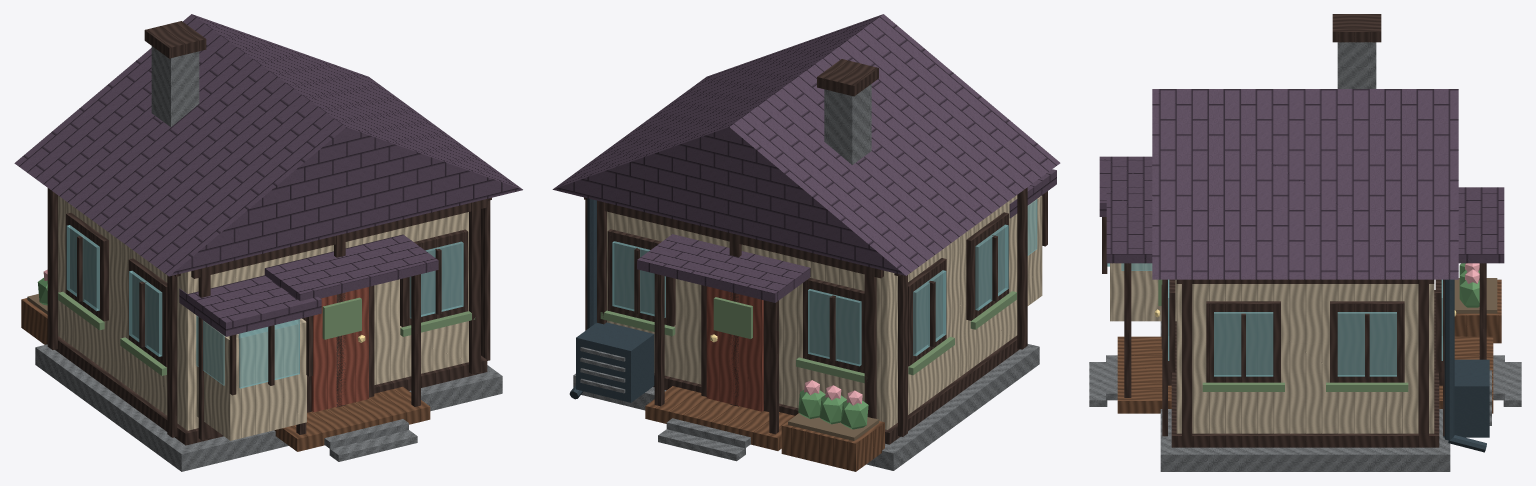
The model's file is house_tudor_lv1_bay.glb.
The picture shows the model from 3 angles, left to right: view 1: azimuth 30°, elevation 25°; view 2: azimuth 150°, elevation 25°; view 3: azimuth 270°, elevation 25°; orthographic projection.
Parts seen in each view (by area): view 1: gable_roof, walls, bay_base, foundation, front_porch_canopy, bay_cap, front_door, front_deck, front_window_frame.001, floor_trim, chimney, bay_glass (+24 smaller); view 2: gable_roof, walls, back_porch_canopy, foundation, back_door, back_ac_unit, back_window_frame, back_deck, back_window_frame.001, back_garden_bed, back_window_glass, chimney (+33 smaller); view 3: gable_roof, walls, foundation, right_window_frame, right_window_frame.001, floor_trim, right_window_glass, right_window_glass.001, back_porch_canopy, front_porch_canopy, front_deck, back_ac_unit (+23 smaller).
Part boxes in pixels (box(x1,y1,x2,y2)): gable_roof: box(14, 14, 522, 276); walls: box(58, 195, 468, 430); bay_base: box(196, 316, 306, 440); foundation: box(35, 344, 502, 471); front_porch_canopy: box(264, 234, 438, 300); bay_cap: box(179, 275, 321, 336); front_door: box(311, 287, 368, 412); front_deck: box(274, 386, 430, 451); front_window_frame.001: box(400, 229, 468, 327); floor_trim: box(55, 336, 487, 445); chimney: box(151, 46, 199, 126); bay_glass: box(238, 319, 299, 388); gable_roof: box(552, 14, 1060, 275); walls: box(607, 195, 1017, 429); back_porch_canopy: box(637, 234, 810, 302); foundation: box(573, 344, 1039, 470); back_door: box(706, 286, 763, 411); back_ac_unit: box(576, 322, 654, 402); back_window_frame: box(803, 278, 864, 373); back_deck: box(645, 386, 794, 450); back_window_frame.001: box(607, 229, 675, 326); back_garden_bed: box(781, 413, 884, 471); back_window_glass: box(808, 289, 861, 366); chimney: box(824, 84, 871, 164); gable_roof: box(1152, 89, 1458, 279); walls: box(1176, 284, 1434, 433); foundation: box(1160, 321, 1450, 471); right_window_frame: box(1206, 301, 1280, 382); right_window_frame.001: box(1330, 301, 1404, 382); floor_trim: box(1171, 290, 1439, 447); right_window_glass: box(1214, 312, 1273, 376); right_window_glass.001: box(1337, 312, 1396, 376); back_porch_canopy: box(1458, 187, 1504, 263); front_porch_canopy: box(1106, 187, 1152, 263); front_deck: box(1117, 336, 1171, 413); back_ac_unit: box(1443, 359, 1489, 437).
Size of the model in its own units: 3.15 by 2.9 by 3.36.
13 materials, 7 textured.
